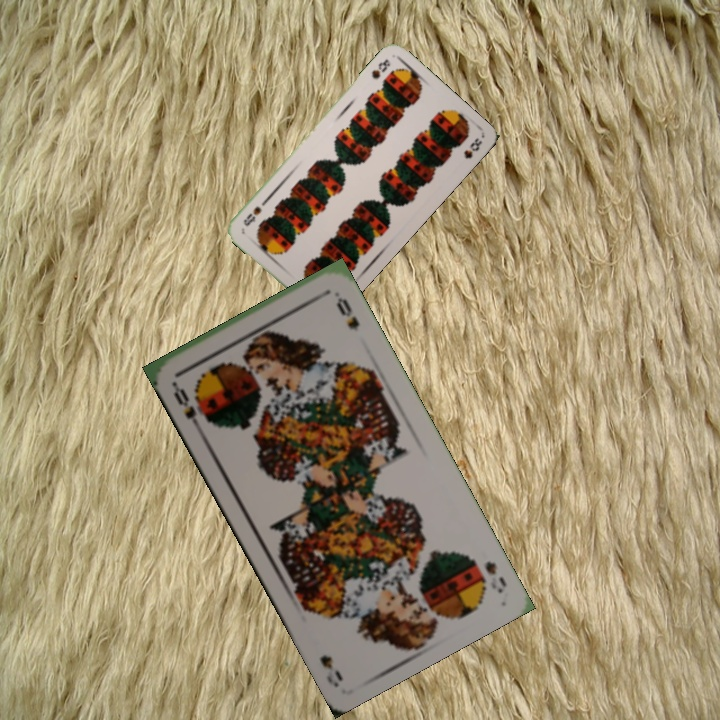S8: (367, 55, 393, 82)
SO: (168, 378, 204, 433), (481, 557, 510, 596)
